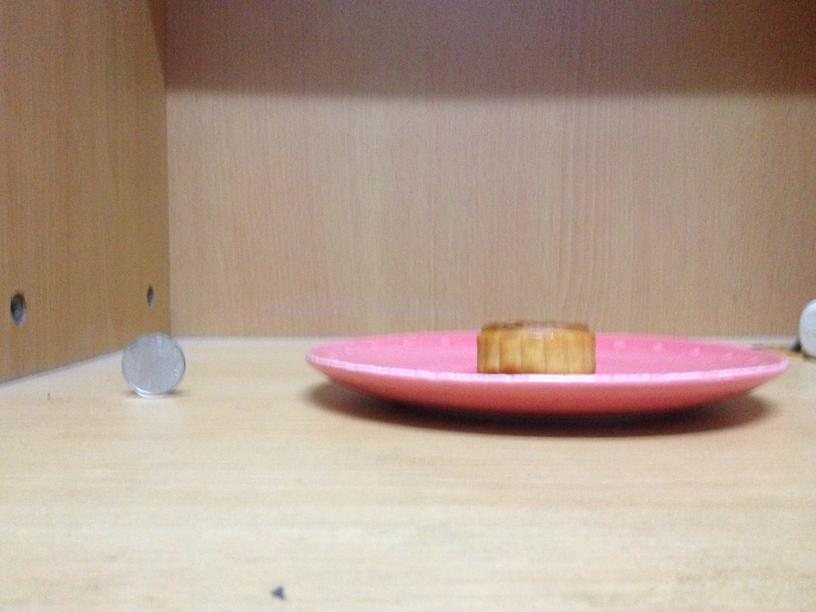coin: (121, 336, 185, 395)
mooncake: (471, 319, 597, 374)
